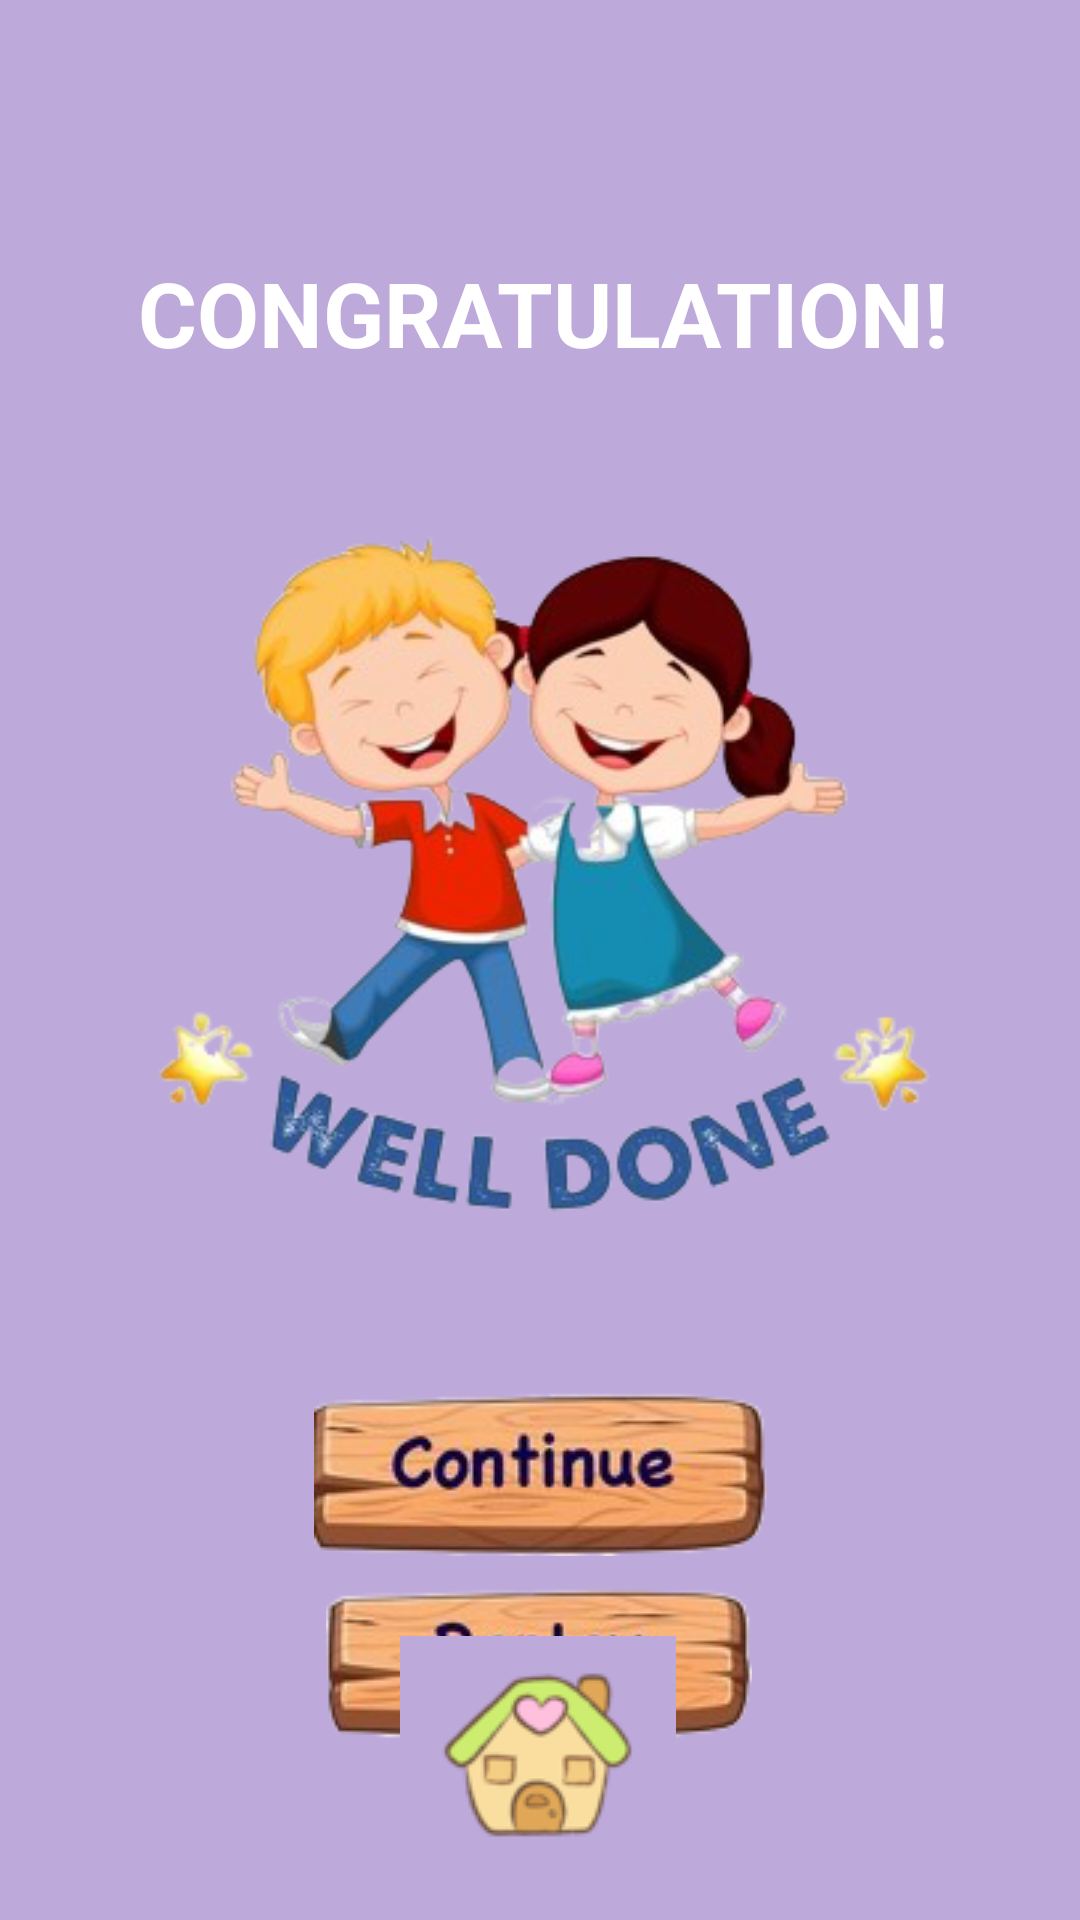

Screen size 1080 × 1920. Icon name, then its box in pixels as (x1, y1, x2, y2):
home: (444, 1673, 632, 1837)
